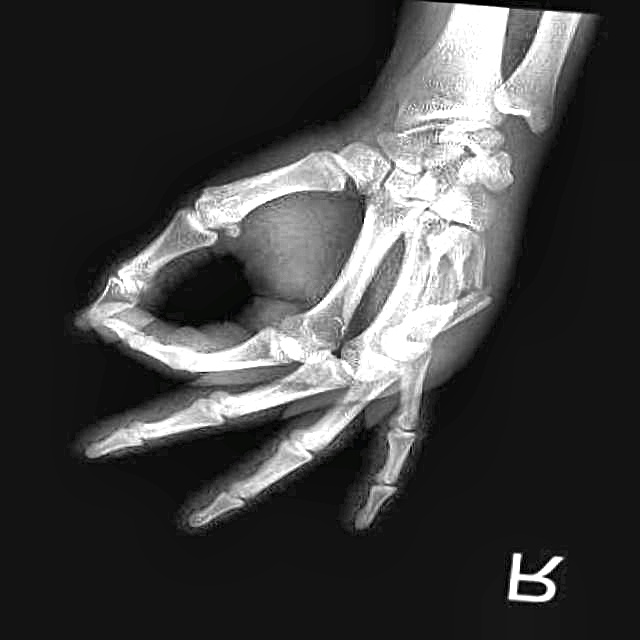Oblique: (389, 235, 509, 353)
